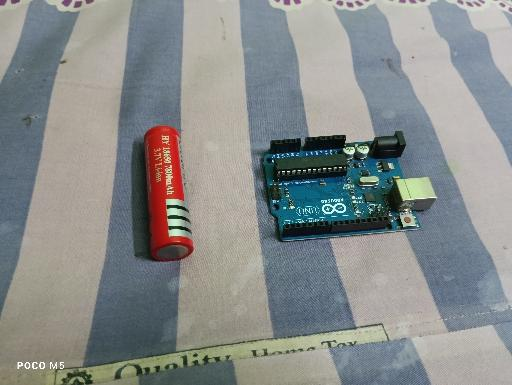Arduino: (262, 130, 437, 243)
Battery: (143, 125, 195, 262)
